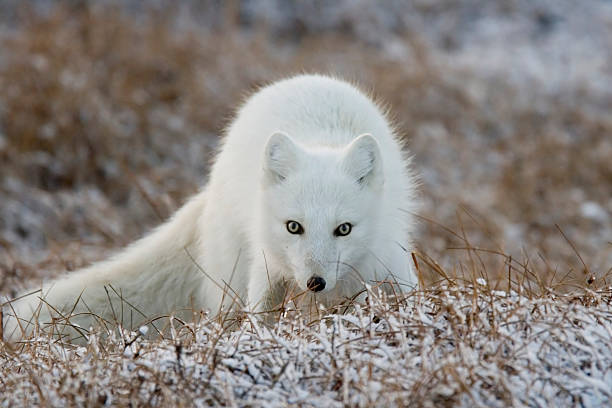arcticfox: (271, 177, 366, 300)
